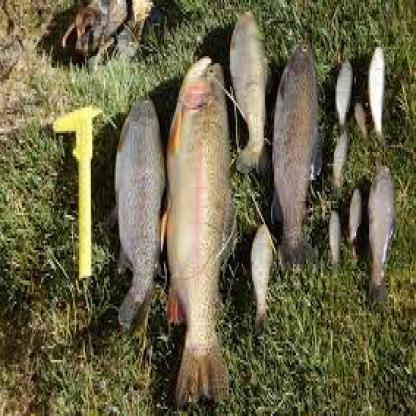fish: (159, 52, 230, 402), (268, 32, 322, 258), (112, 97, 164, 329), (226, 8, 270, 171), (363, 161, 395, 304)
